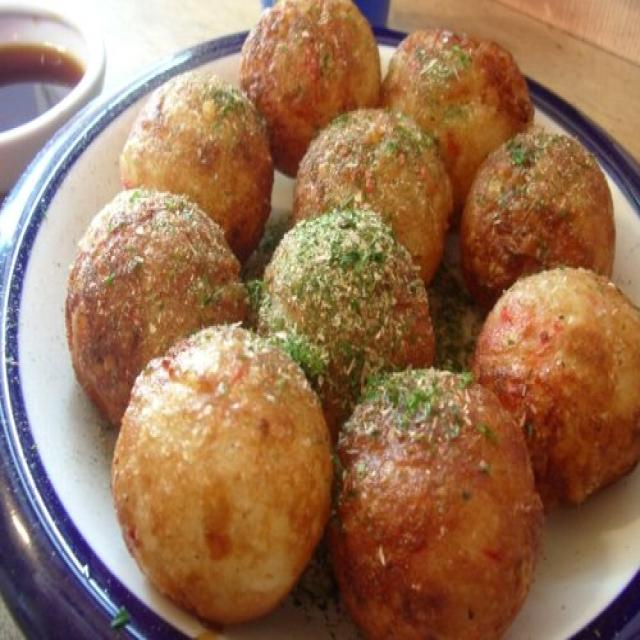炸货点心: (57, 0, 640, 640)
